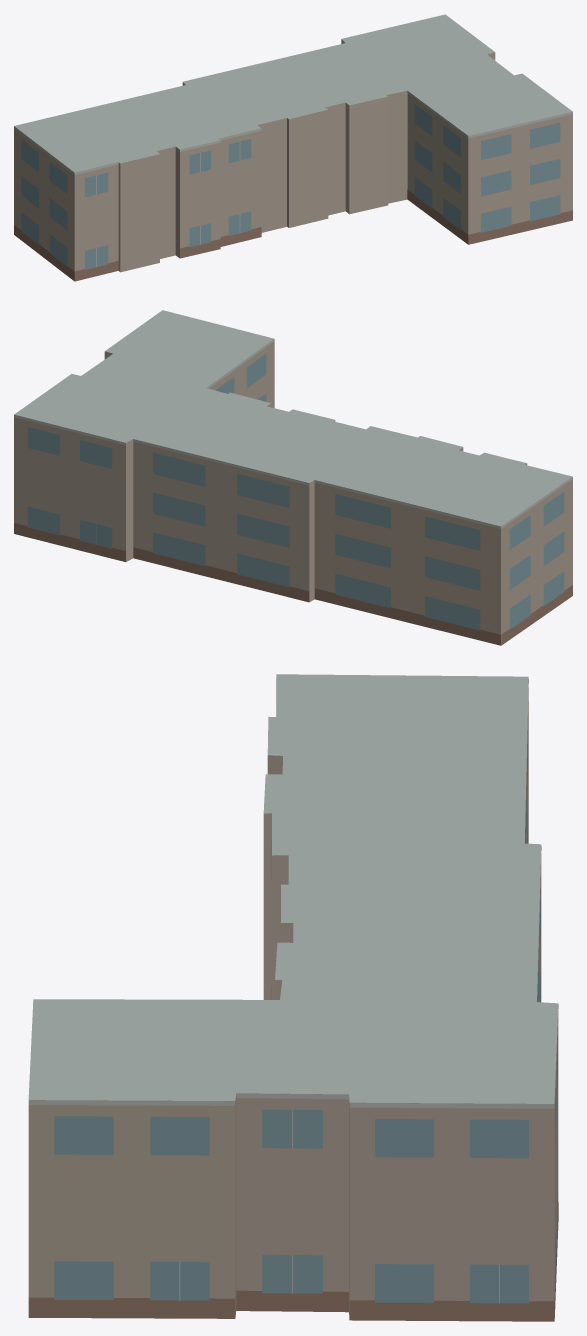
Rendered from survey-upis-32744796.glb.
The picture shows the model from 3 angles, top to bottom: view 1: azimuth 30°, elevation 25°; view 2: azimuth 150°, elevation 25°; view 3: azimuth 270°, elevation 25°; orthographic projection. The views are drawn at different scales.
Parts seen in each view (by area): view 1: survey-upis-32744796.tmp; view 2: survey-upis-32744796.tmp; view 3: survey-upis-32744796.tmp.
Boxes of the visible parts, x1,y1,x2,y2 form: survey-upis-32744796.tmp: (14, 14, 572, 281); survey-upis-32744796.tmp: (14, 310, 572, 645); survey-upis-32744796.tmp: (28, 674, 558, 1321).
Bounding box in the file's own units: 46.74 × 11.04 × 24.36.
